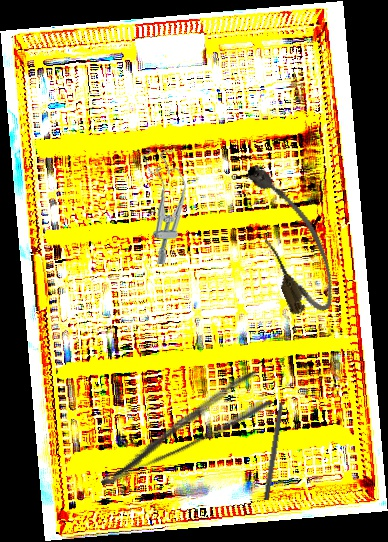Cannula: (236, 152, 345, 322)
Dressing Forceps: (86, 368, 274, 491)
Hook Surgical: (263, 388, 288, 501)
Speculum: (141, 146, 191, 266)
